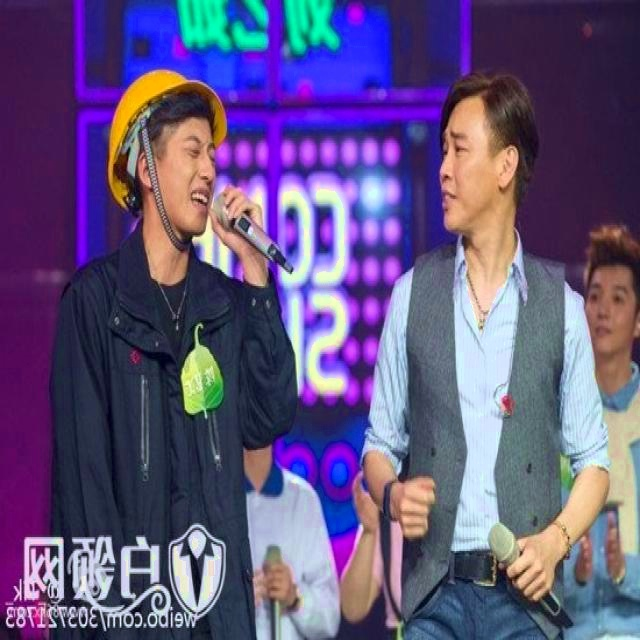Con_Casco: (109, 70, 228, 248)
Sin_Casco_Mascarrilla: (442, 70, 538, 236), (582, 228, 639, 361)
Sin_Chaleco: (402, 248, 571, 584), (63, 255, 235, 525)
